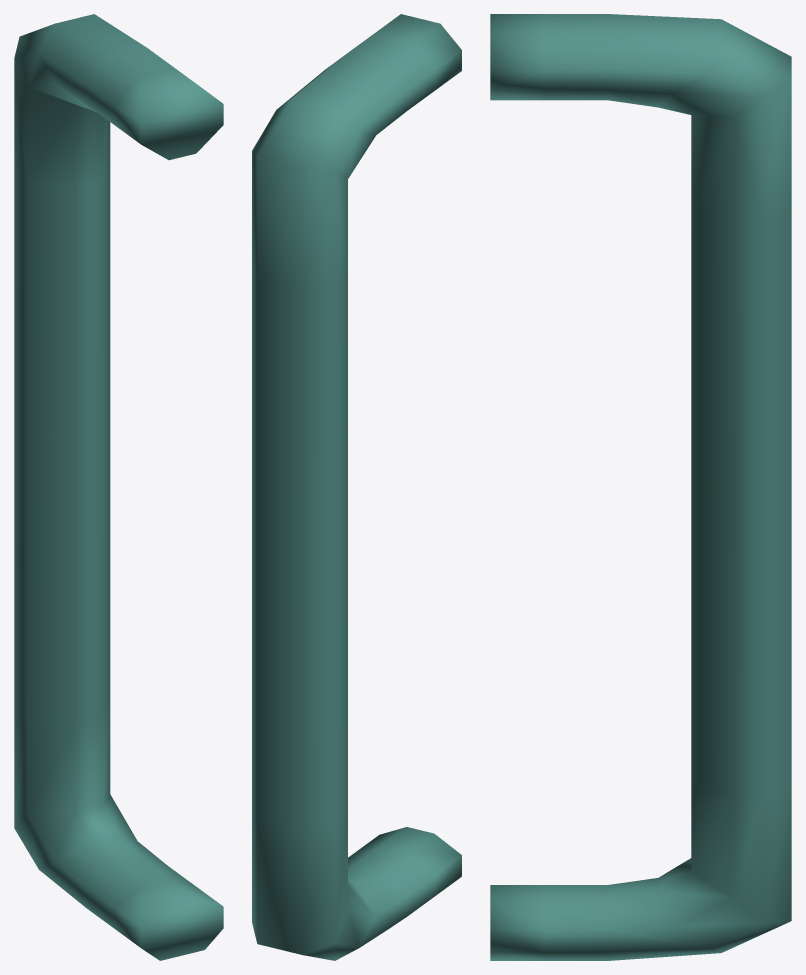
The model's file is Container_Waterpipe_2.fbx.
The picture shows the model from 3 angles, left to right: view 1: azimuth 30°, elevation 25°; view 2: azimuth 150°, elevation 25°; view 3: azimuth 270°, elevation 25°; orthographic projection. The views are drawn at different scales.
Parts seen in each view (by area): view 1: pasted__pCube36; view 2: pasted__pCube36; view 3: pasted__pCube36.
Part boxes in pixels (x1=…): pasted__pCube36: x1=14, y1=14, x2=223, y2=960; pasted__pCube36: x1=252, y1=14, x2=461, y2=960; pasted__pCube36: x1=490, y1=14, x2=791, y2=960.
Size of the model in its own units: 0.0433 by 0.4334 by 0.128.
